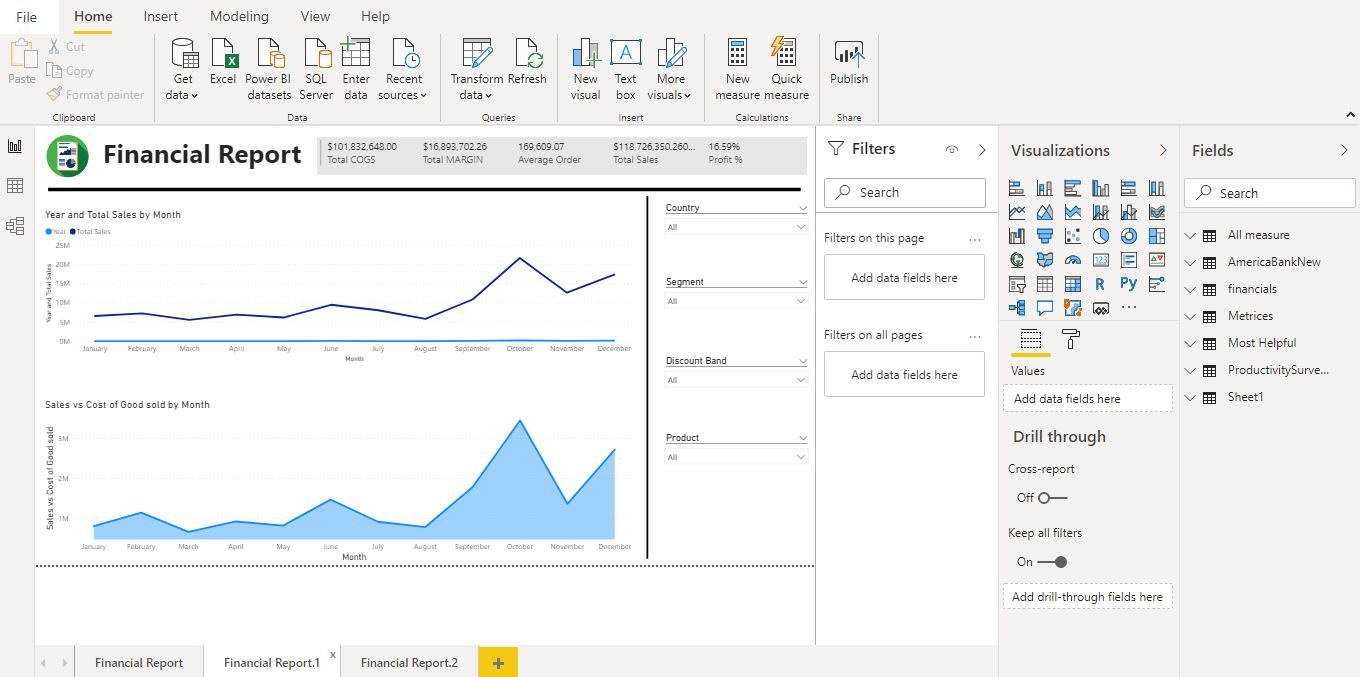

What the dashboard file says about the page in this screenshot:
{"tool":"powerbi","page":{"name":"Financial Report.1","canvas":[1280,720],"ordinal":1},"visuals":[{"type":"multiRowCard","fields":{"Values":["financials.Total COGS","financials.Total MARGIN","financials.Average Order","financials.Total Sales","financials.Profit %"]},"box":[462.8,18.1,804.1,62.4],"z":0},{"type":"textbox","box":[106.7,9.8,336.4,124.7],"z":1000},{"type":"image","box":[0,9.8,106.7,78.8],"z":2000},{"type":"basicShape","box":[11.5,88.6,1255.4,31.2],"z":3000},{"type":"slicer","fields":{"Values":["financials.Country"]},"box":[1022.4,119.8,257.6,95.2],"z":4000},{"type":"slicer","fields":{"Values":["financials.Segment"]},"box":[1022.4,241.2,257.6,101.7],"z":5000},{"type":"slicer","fields":{"Values":["financials.Product"]},"box":[1022.4,497.2,257.6,109.9],"z":6000},{"type":"slicer","fields":{"Values":["financials.Discount Band"]},"box":[1022.4,370.9,257.6,109.9],"z":7000},{"type":"basicShape","box":[987.9,105,34.5,615.4],"z":8000},{"type":"areaChart","fields":{"Category":["financials.Date.Variation.Date Hierarchy.Year","financials.Date.Variation.Date Hierarchy.Quarter","financials.Date.Variation.Date Hierarchy.Month","financials.Date.Variation.Date Hierarchy.Day"],"Y":["financials.Sales vs Cost of Good sold"]},"box":[11.5,446.4,976.4,274.1],"z":9000},{"type":"lineChart","fields":{"Category":["financials.Date.Variation.Date Hierarchy.Year","financials.Date.Variation.Date Hierarchy.Quarter","financials.Date.Variation.Date Hierarchy.Month","financials.Date.Variation.Date Hierarchy.Day"],"Y":["Sum(financials.Year)","financials.Total Sales"]},"box":[11.5,134.6,976.4,257.6],"z":10000}]}

Visuals, with their boxes on the page's 1280x720 design canvas (x1, y1, x2, y2). These are canvas units, not pixel positions in the 1360x677 screenshot, which may show the page scaled, cropped or inside an application window:
multiRowCard - financials.Total COGS x financials.Total MARGIN: region(463, 18, 1267, 80)
textbox: region(107, 10, 443, 134)
image: region(0, 10, 107, 89)
basicShape: region(12, 89, 1267, 120)
slicer - financials.Country: region(1022, 120, 1280, 215)
slicer - financials.Segment: region(1022, 241, 1280, 343)
slicer - financials.Product: region(1022, 497, 1280, 607)
slicer - financials.Discount Band: region(1022, 371, 1280, 481)
basicShape: region(988, 105, 1022, 720)
areaChart - financials.Date.Variation.Date Hierarchy.Year x financials.Date.Variation.Date Hierarchy.Quarter: region(12, 446, 988, 720)
lineChart - financials.Date.Variation.Date Hierarchy.Year x financials.Date.Variation.Date Hierarchy.Quarter: region(12, 135, 988, 392)
